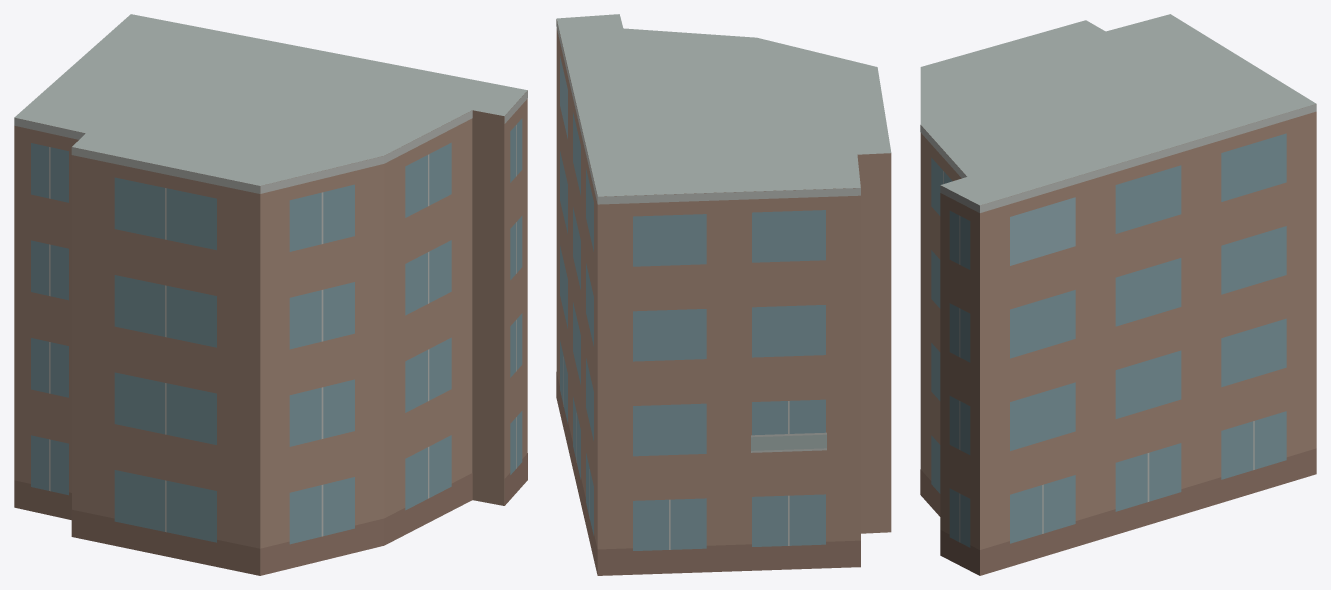
The model's file is survey-upis-32974426.glb.
3 renders of one model, left to right at view 1: azimuth 30°, elevation 25°; view 2: azimuth 150°, elevation 25°; view 3: azimuth 270°, elevation 25°, orthographic. The views are drawn at different scales.
Visible parts, largest first — view 1: survey-upis-32974426.tmp; view 2: survey-upis-32974426.tmp; view 3: survey-upis-32974426.tmp.
Part boxes in pixels (bbox=[...]): survey-upis-32974426.tmp: bbox=[14, 14, 527, 575]; survey-upis-32974426.tmp: bbox=[556, 14, 891, 575]; survey-upis-32974426.tmp: bbox=[920, 14, 1316, 575].
Bounding box in the file's own units: 13.04 × 11.75 × 11.4.
